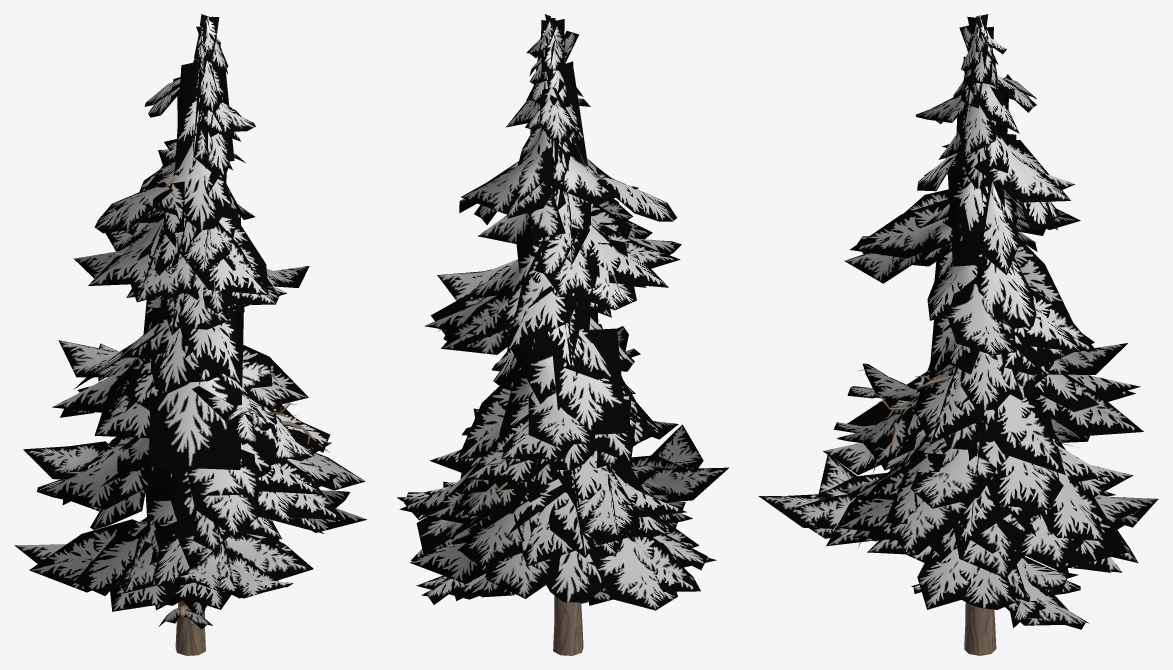
File: P_Pine03_Snowy.obj
3 views of the same model, side by side, from view 1: azimuth 30°, elevation 25°; view 2: azimuth 150°, elevation 25°; view 3: azimuth 270°, elevation 25° (orthographic). The views are drawn at different scales.
Size of the model in its own units: 9.98 by 19.52 by 11.03.
